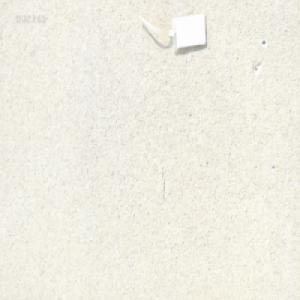LuggageTag: (135, 8, 208, 55)
